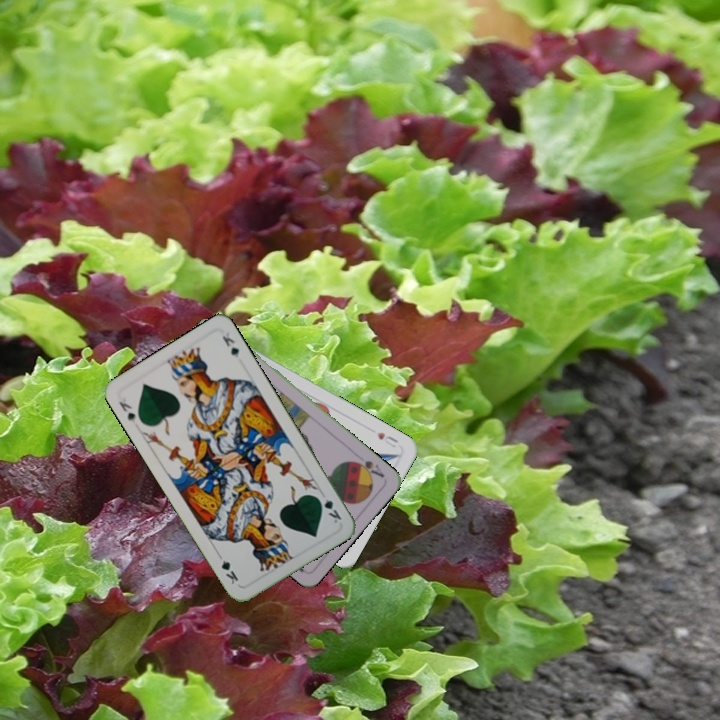GK: (313, 492, 344, 526), (115, 397, 138, 426)
HU: (373, 428, 401, 450)
SA: (349, 456, 387, 480)
